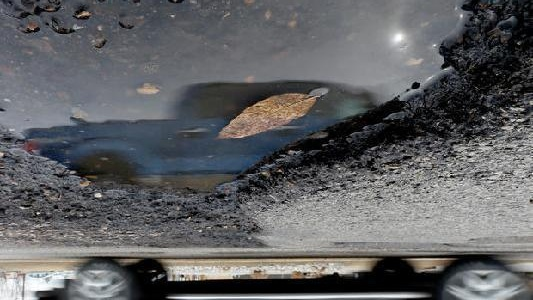pothole: (0, 0, 530, 250)
